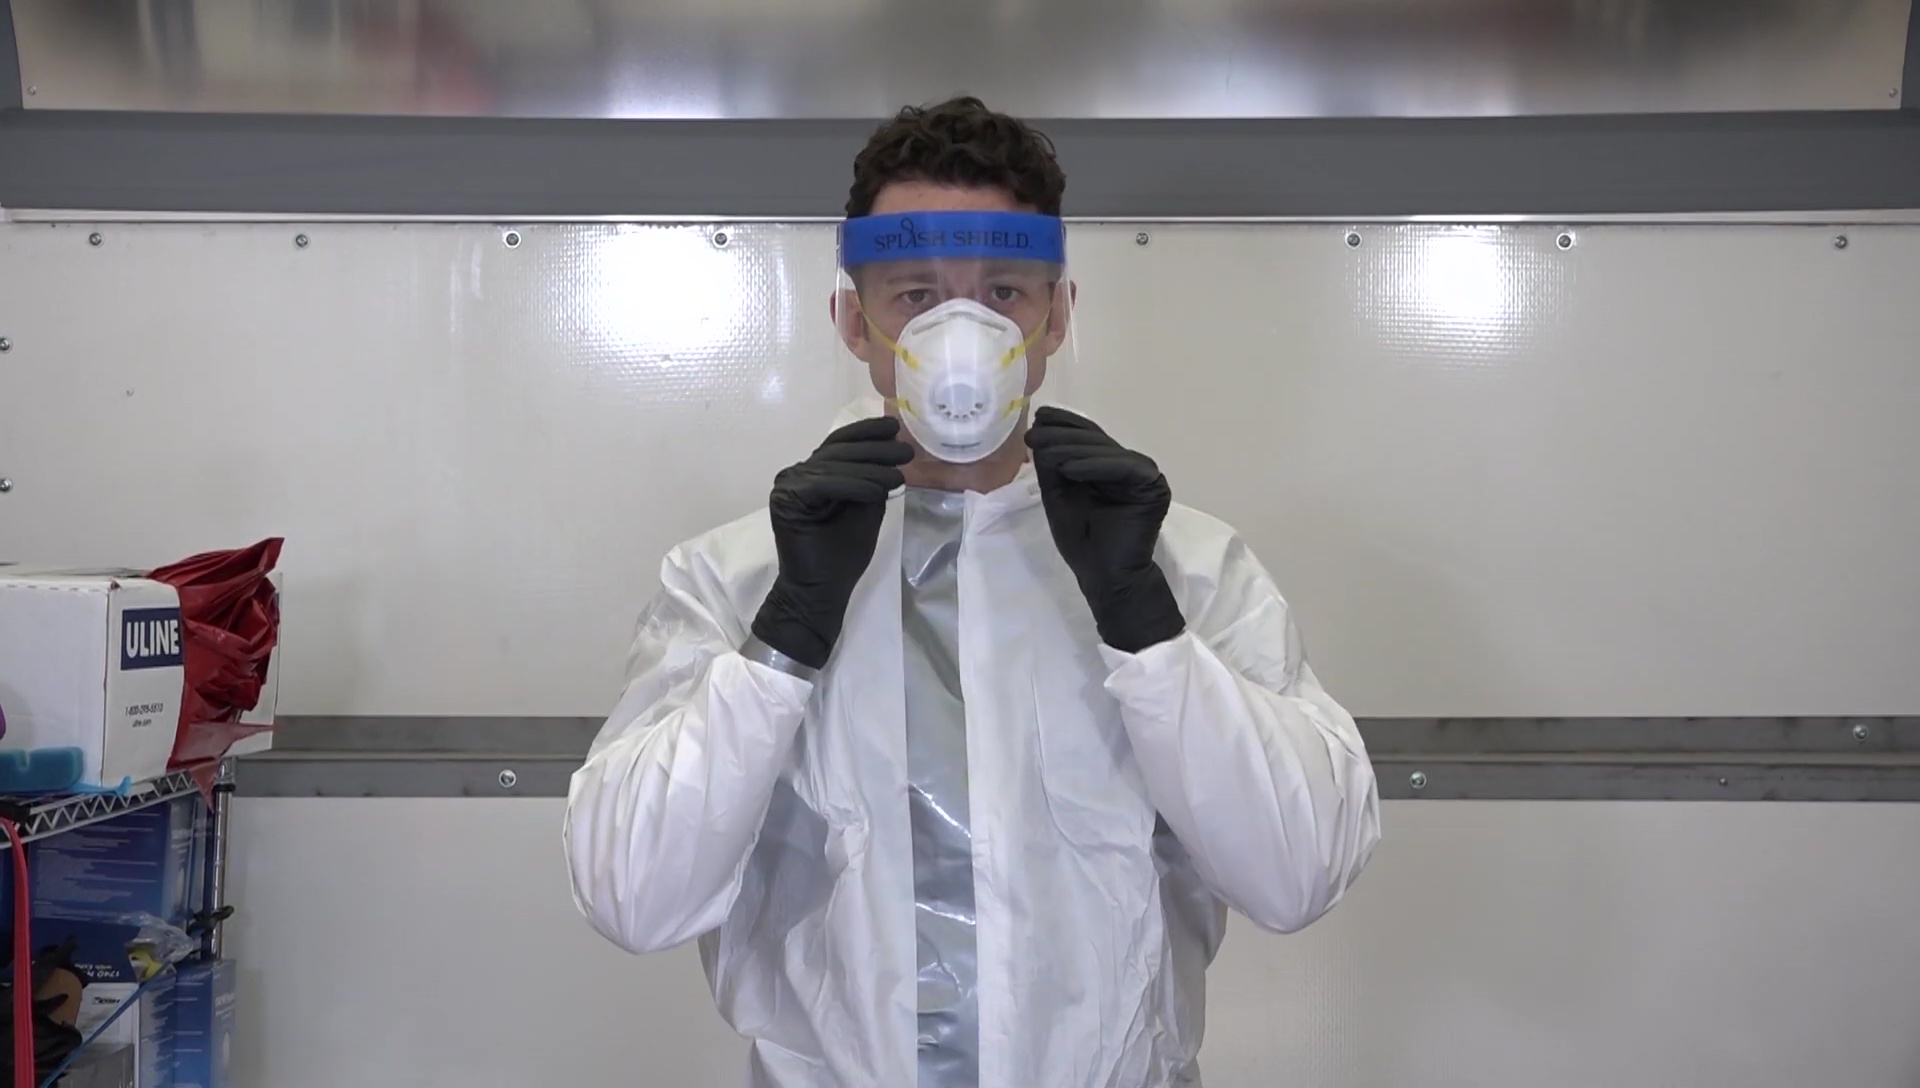Coverall: (562, 473, 1382, 1087)
Face_Shield: (826, 210, 1087, 500)
Gloves: (748, 412, 915, 671), (1021, 400, 1185, 645)
with_mask: (873, 274, 1039, 459)
